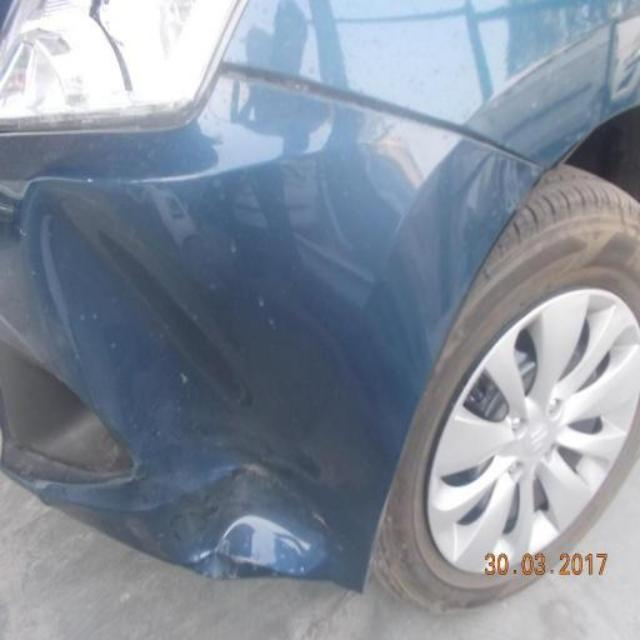dent: (197, 448, 339, 585)
